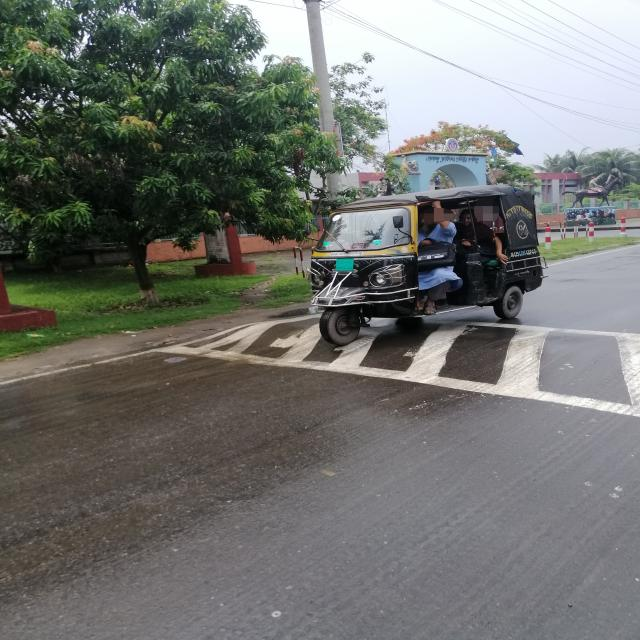CNG: (280, 172, 569, 360)
